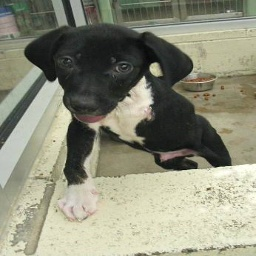dog: (20, 22, 232, 222)
